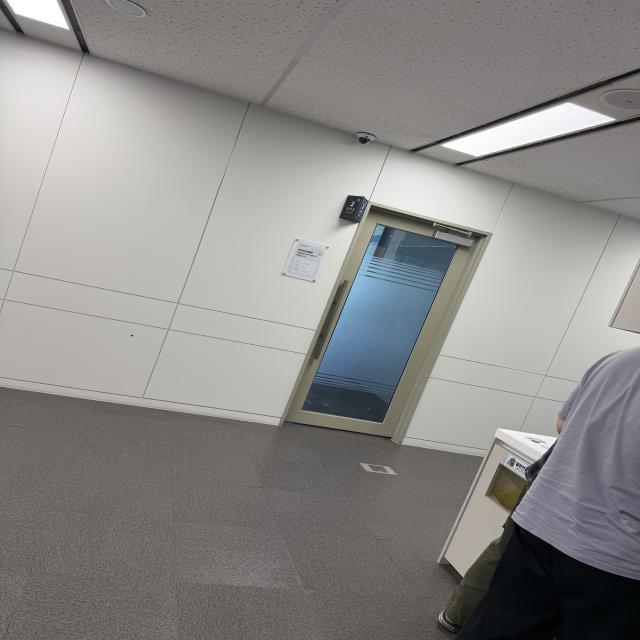sign: (340, 196, 360, 219)
